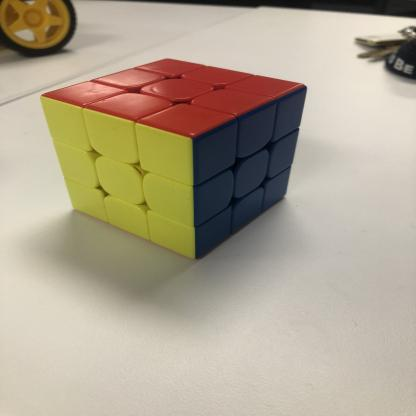SolvedCube: (31, 48, 313, 274)
